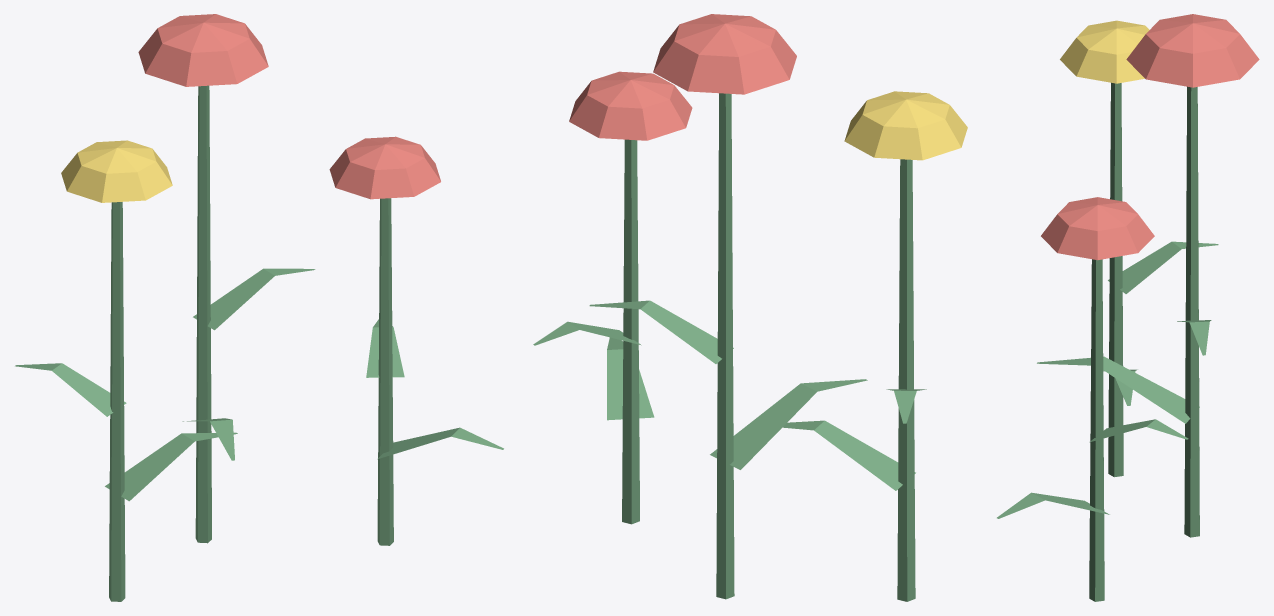
File: flower_red.glb
3 renders of one model, left to right at view 1: azimuth 30°, elevation 25°; view 2: azimuth 150°, elevation 25°; view 3: azimuth 270°, elevation 25°, orthographic. The views are drawn at different scales.
Parts seen in each view (by area): view 1: flower-red; view 2: flower-red; view 3: flower-red.
Boxes of the visible parts, x1,y1,x2,y2 form: flower-red: (15,14,503,601); flower-red: (533,14,967,601); flower-red: (997,14,1259,601).
Size of the model in its own units: 0.454 by 0.592 by 0.2765.
